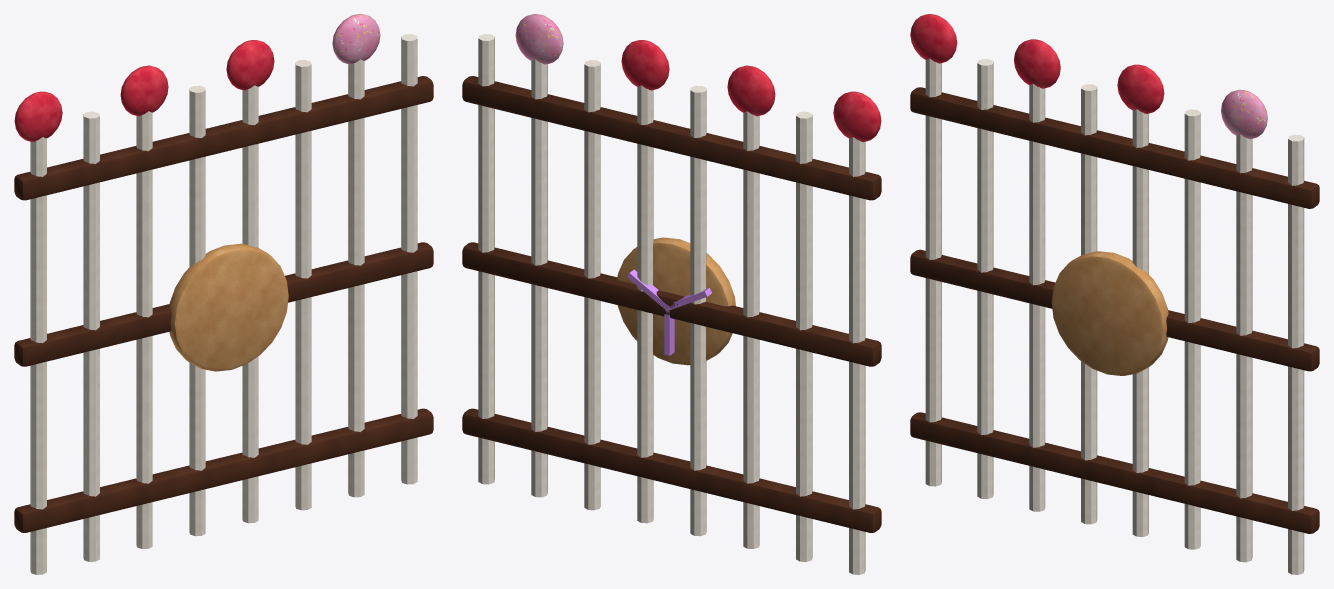
The model's file is CF_MonsterRoomDoor.fbx.
The picture shows the model from 3 angles, left to right: view 1: azimuth 30°, elevation 25°; view 2: azimuth 150°, elevation 25°; view 3: azimuth 330°, elevation 25°; orthographic projection. The views are drawn at different scales.
Parts seen in each view (by area): view 1: CF_MonsterRoomDoor; view 2: CF_MonsterRoomDoor; view 3: CF_MonsterRoomDoor.
Boxes of the visible parts, box(x1,y1,x2,y2) form: CF_MonsterRoomDoor: box(14, 14, 433, 574); CF_MonsterRoomDoor: box(462, 14, 881, 574); CF_MonsterRoomDoor: box(910, 14, 1319, 574).
Size of the model in its own units: 3.92 by 4.32 by 0.239.
